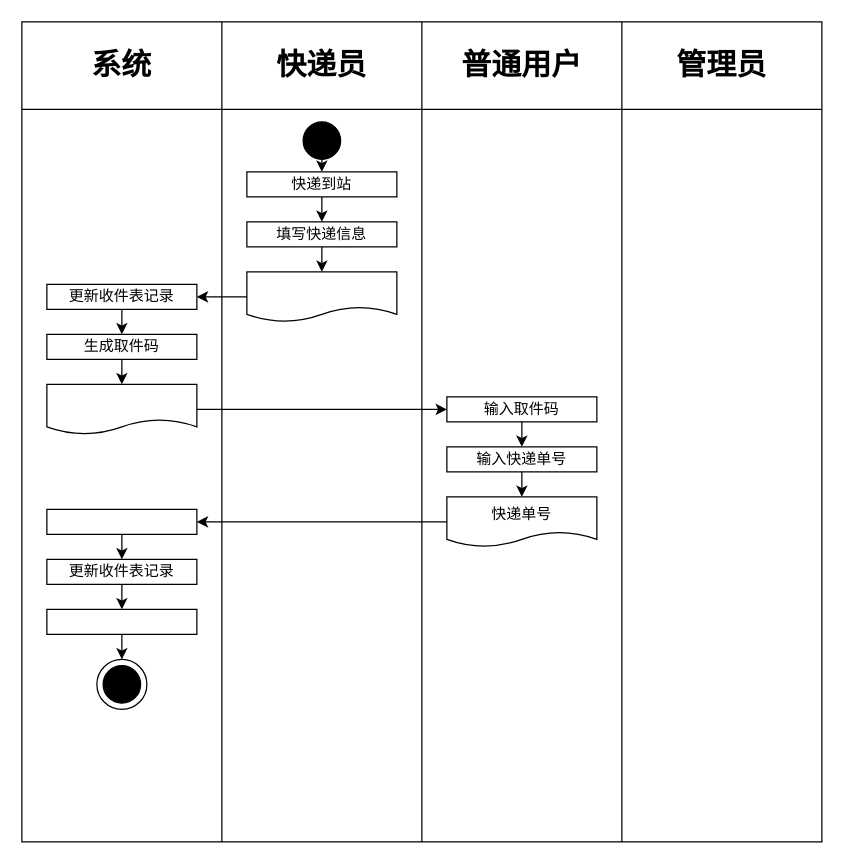
This 844x864 diagram has some shape labels left out. Here are the shapes that lost their labels. From the top down, the centre of each, then its label:
the point at 321,296: 快递信息
the point at 121,408: 取件码
the point at 121,521: 核验信息
the point at 121,621: 取件成功
